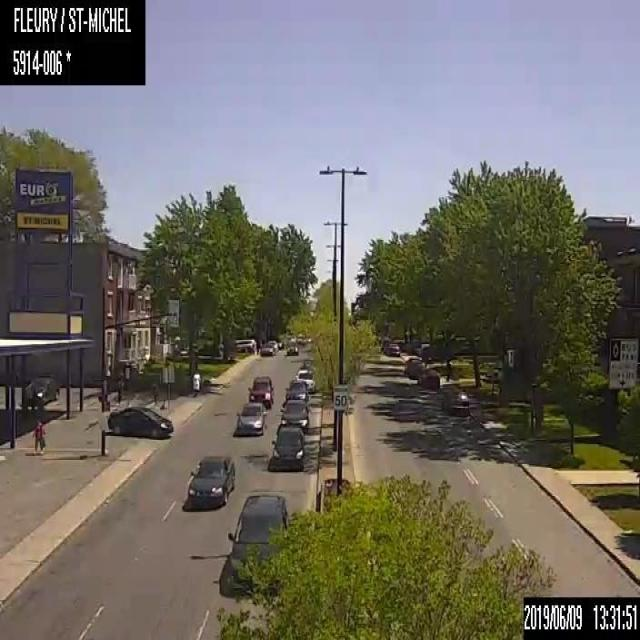pedestrian: (32, 416, 44, 453), (191, 370, 200, 395), (445, 356, 450, 380)
vehicle: (226, 489, 290, 584), (186, 453, 237, 507), (105, 402, 174, 438), (268, 422, 307, 471), (21, 372, 58, 406), (279, 396, 308, 431), (247, 374, 273, 410), (236, 402, 266, 433), (441, 385, 469, 412), (415, 366, 440, 391), (282, 378, 308, 400), (293, 368, 316, 392), (402, 355, 425, 379), (383, 340, 401, 356), (266, 339, 279, 352), (286, 341, 298, 355), (259, 344, 274, 354)
